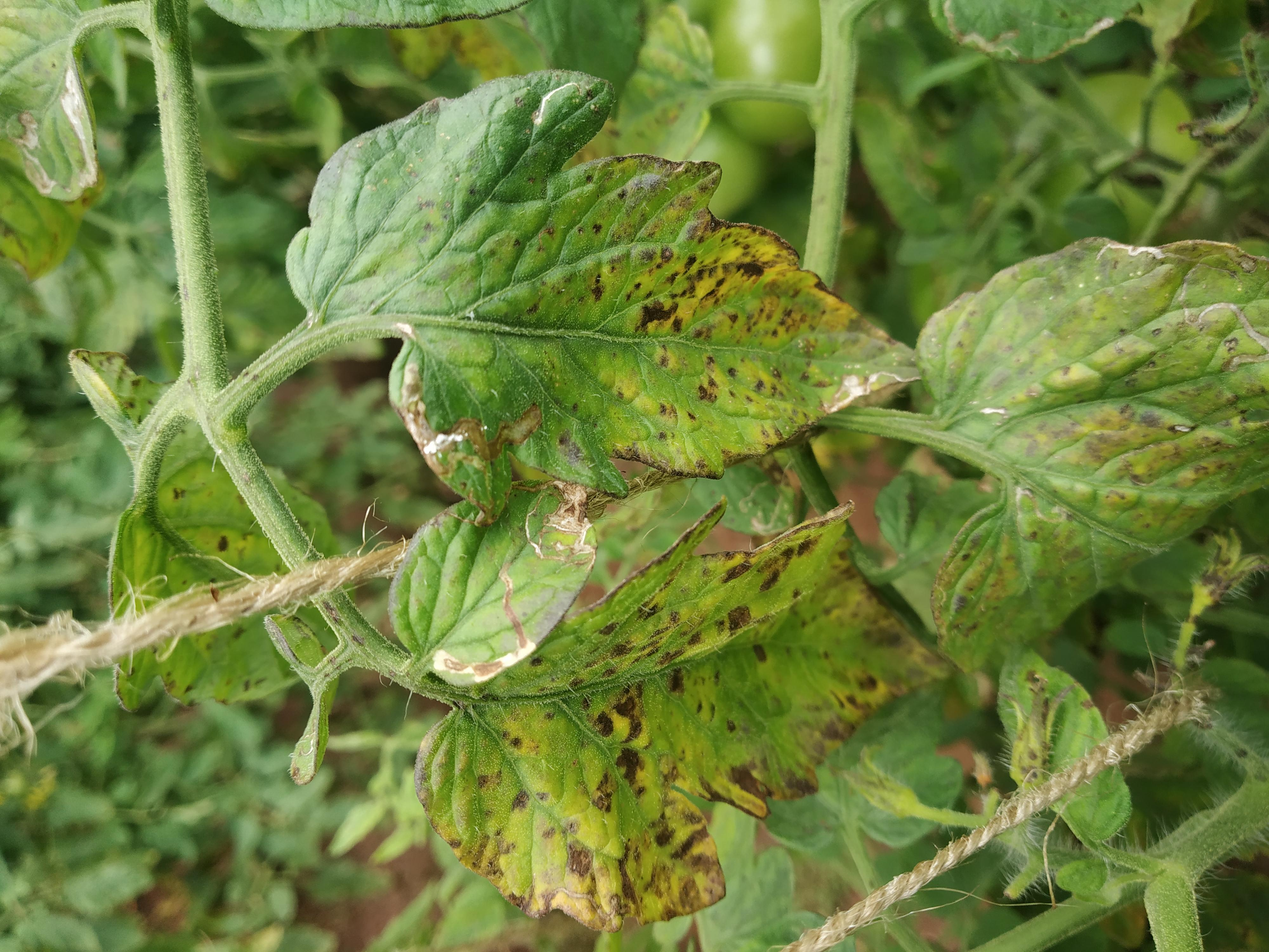Early Blight: (622, 207, 1175, 703), (6, 302, 587, 717)
